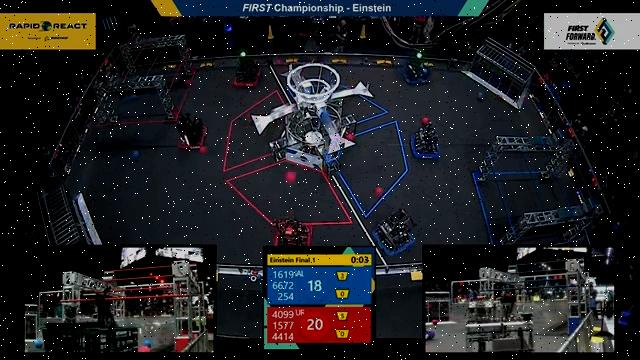Robot: (357, 209, 421, 255), (267, 212, 318, 251), (406, 118, 445, 167), (175, 109, 211, 159), (227, 47, 268, 90), (401, 50, 433, 87)
